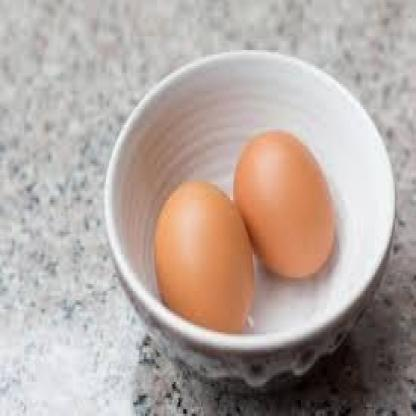egg: (153, 176, 257, 336), (232, 128, 338, 283)
